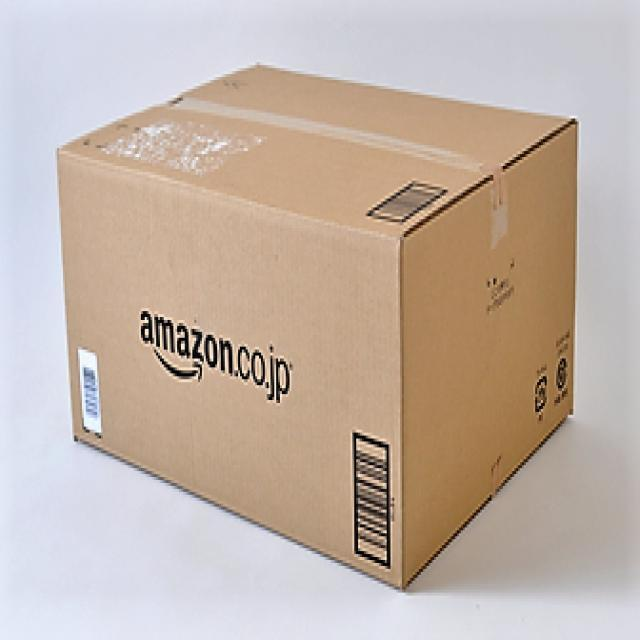box: (51, 57, 587, 593)
